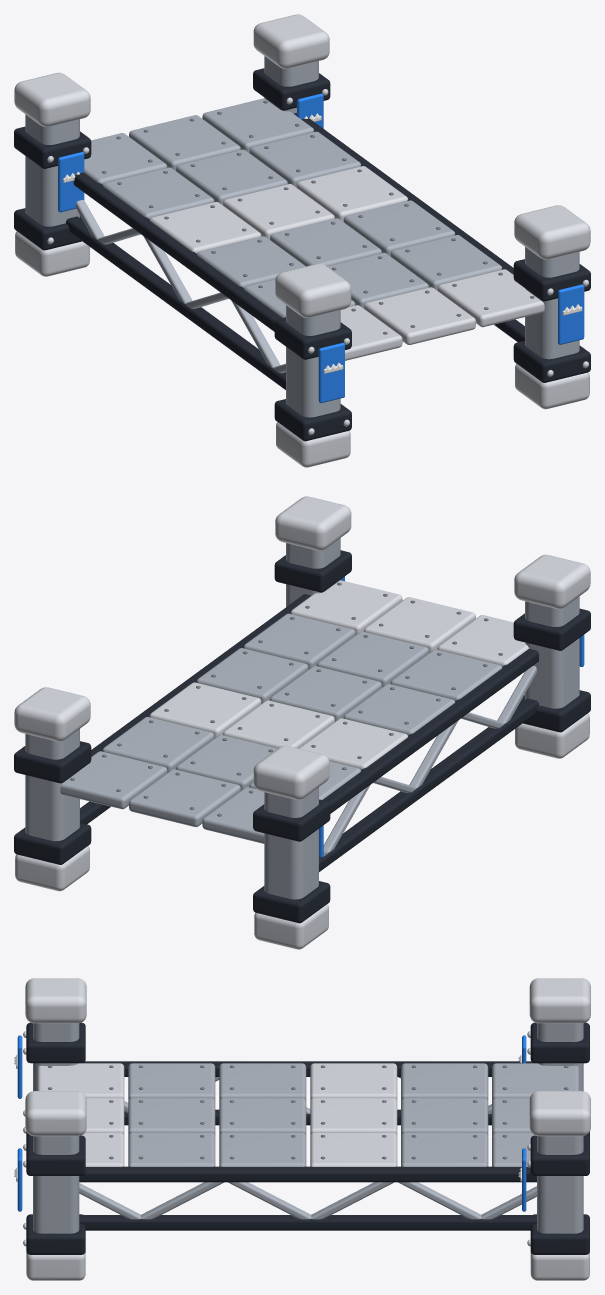
Rendered from steel-bridge.glb.
3 renders of one model, top to bottom at view 1: azimuth 30°, elevation 25°; view 2: azimuth 150°, elevation 25°; view 3: azimuth 270°, elevation 25°, orthographic. The views are drawn at different scales.
Parts seen in each view (by area): view 1: riveted steel road plate.001, riveted steel road plate, long riveted side beam, blue hanging team banner.002, blue hanging team banner, blue hanging team banner.001, steel deck rivet, blue hanging team banner.003; view 2: riveted steel road plate.001, riveted steel road plate, long riveted side beam, steel deck rivet; view 3: riveted steel road plate.001, riveted steel road plate, long riveted side beam, steel deck rivet.
Boxes of the visible parts, x1,y1,x2,y2 form: riveted steel road plate.001: (25, 56, 579, 417); riveted steel road plate: (14, 14, 590, 467); long riveted side beam: (14, 68, 590, 441); blue hanging team banner.002: (558, 284, 584, 344); blue hanging team banner: (318, 343, 344, 403); blue hanging team banner.001: (58, 152, 84, 212); steel deck rivet: (102, 100, 534, 334); blue hanging team banner.003: (297, 93, 323, 128); riveted steel road plate.001: (25, 538, 579, 899); riveted steel road plate: (14, 496, 590, 949); long riveted side beam: (14, 550, 590, 923); steel deck rivet: (70, 582, 502, 816); riveted steel road plate.001: (33, 1023, 583, 1233); riveted steel road plate: (23, 978, 590, 1280); long riveted side beam: (26, 1022, 589, 1254); steel deck rivet: (48, 1065, 568, 1159).
Bounding box in the file's own units: 3.28 × 1.91 × 5.84.
